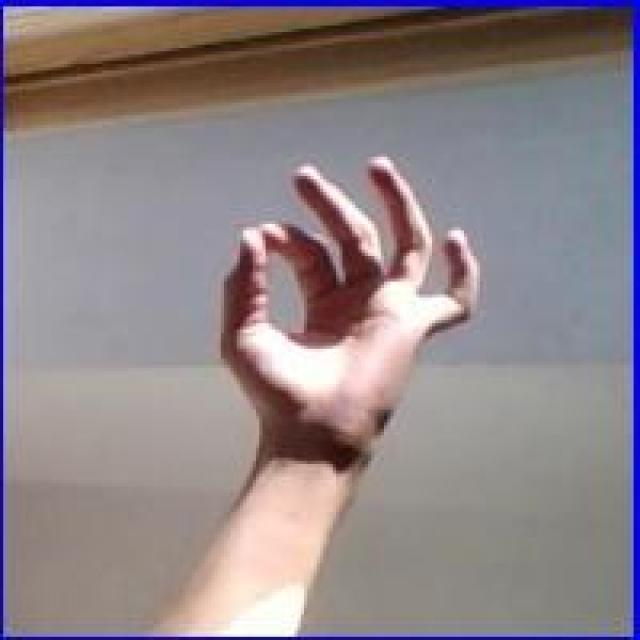F: (216, 149, 478, 478)
